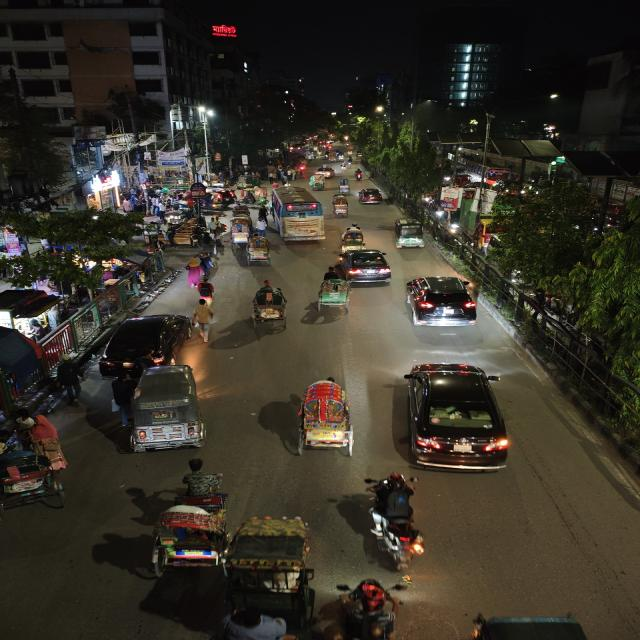bus: (269, 188, 328, 244)
car: (395, 360, 518, 472), (90, 310, 195, 376), (401, 273, 483, 331), (344, 248, 394, 286), (357, 187, 386, 206), (316, 165, 336, 178)
cng: (114, 361, 210, 457), (392, 217, 427, 251)
motorcycle: (360, 470, 433, 576), (323, 576, 407, 640), (353, 167, 364, 181)
pedestrian: (191, 298, 217, 342), (194, 250, 218, 278), (193, 280, 217, 304), (255, 205, 270, 232)
rickshaw: (133, 467, 236, 579), (224, 512, 323, 610), (0, 429, 71, 523), (284, 375, 358, 459), (247, 282, 292, 332), (314, 272, 354, 314), (243, 235, 274, 268), (339, 222, 367, 248), (228, 219, 250, 249), (330, 194, 351, 218), (230, 205, 252, 221), (242, 190, 260, 207), (208, 193, 226, 208), (310, 175, 326, 191), (335, 179, 351, 195)
